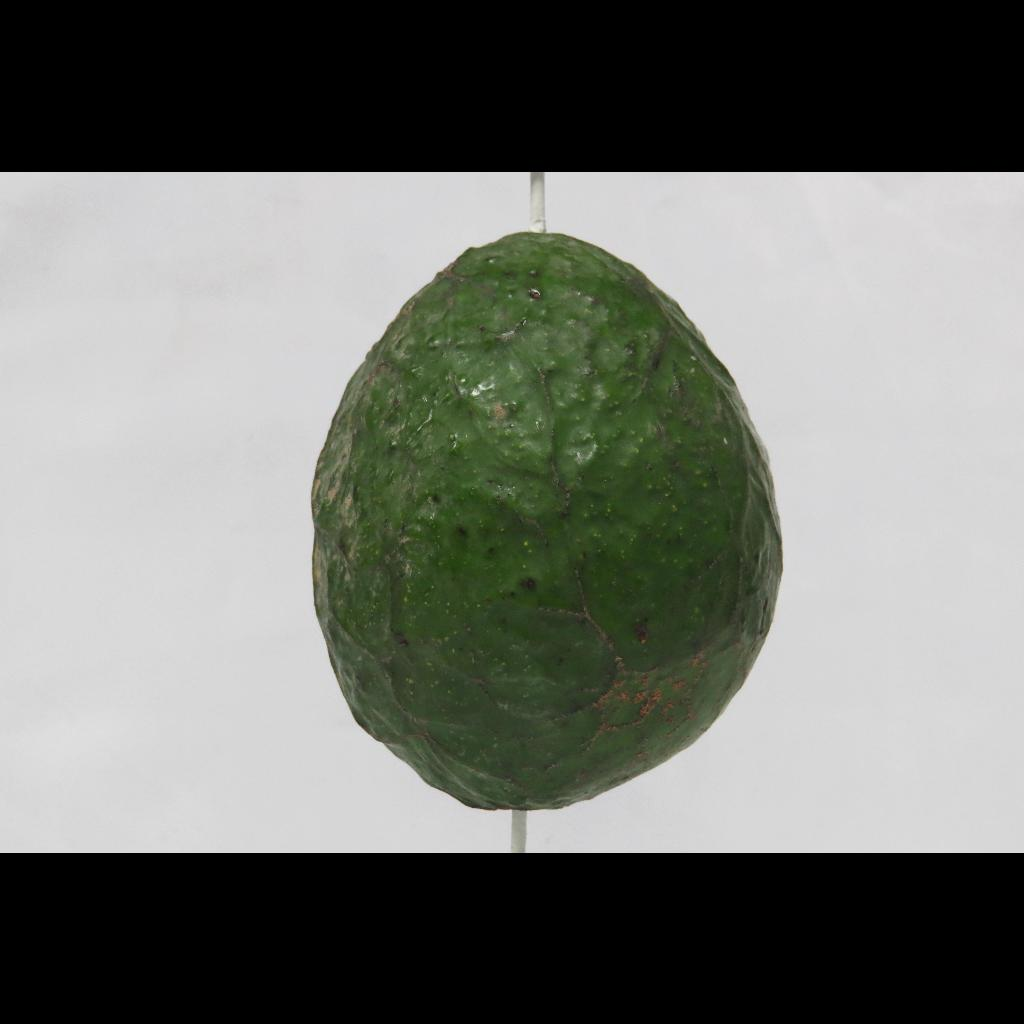Healthy: (292, 198, 814, 838)
